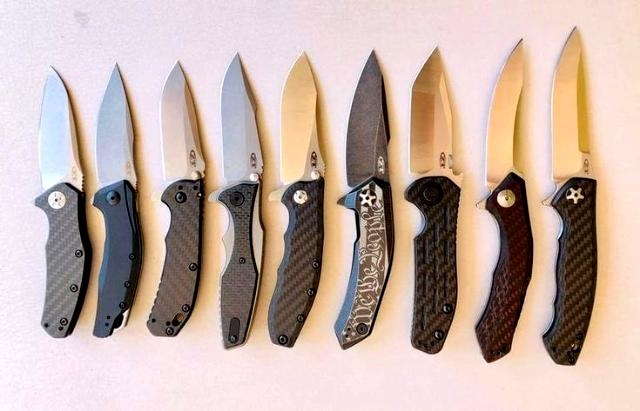pocket-knife: (474, 34, 538, 370), (330, 47, 400, 354), (538, 24, 598, 370), (400, 44, 466, 358), (207, 50, 269, 358), (145, 57, 209, 345), (268, 50, 328, 350), (31, 61, 93, 342), (90, 58, 144, 346)
